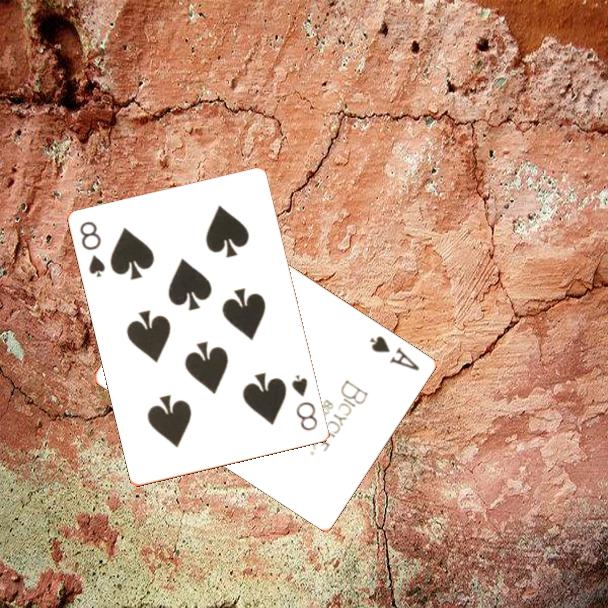s01: (367, 332, 423, 374)
s08: (288, 371, 321, 434), (77, 218, 108, 281)
